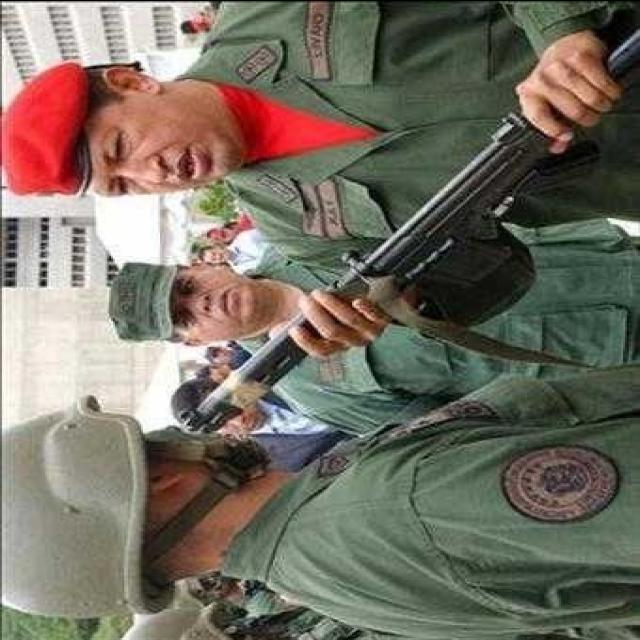heavyweapon: (148, 14, 640, 440)
